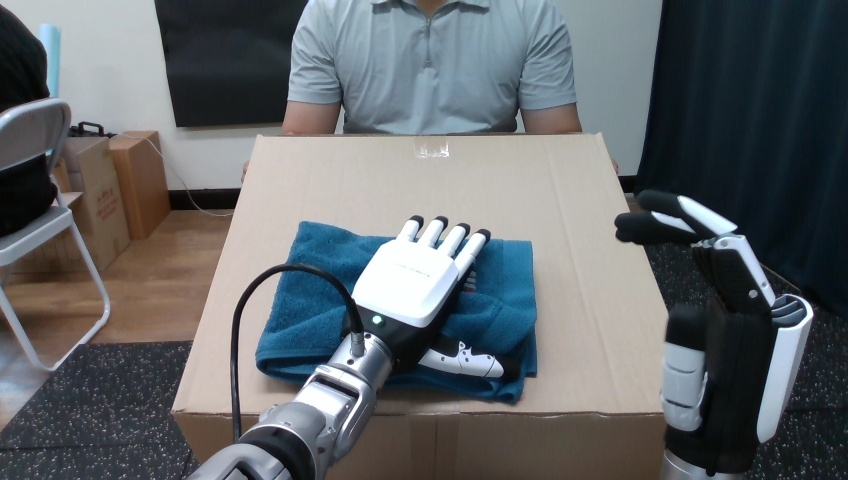left robot hand: (189, 215, 489, 479), (615, 190, 812, 478), (236, 269, 350, 436)
